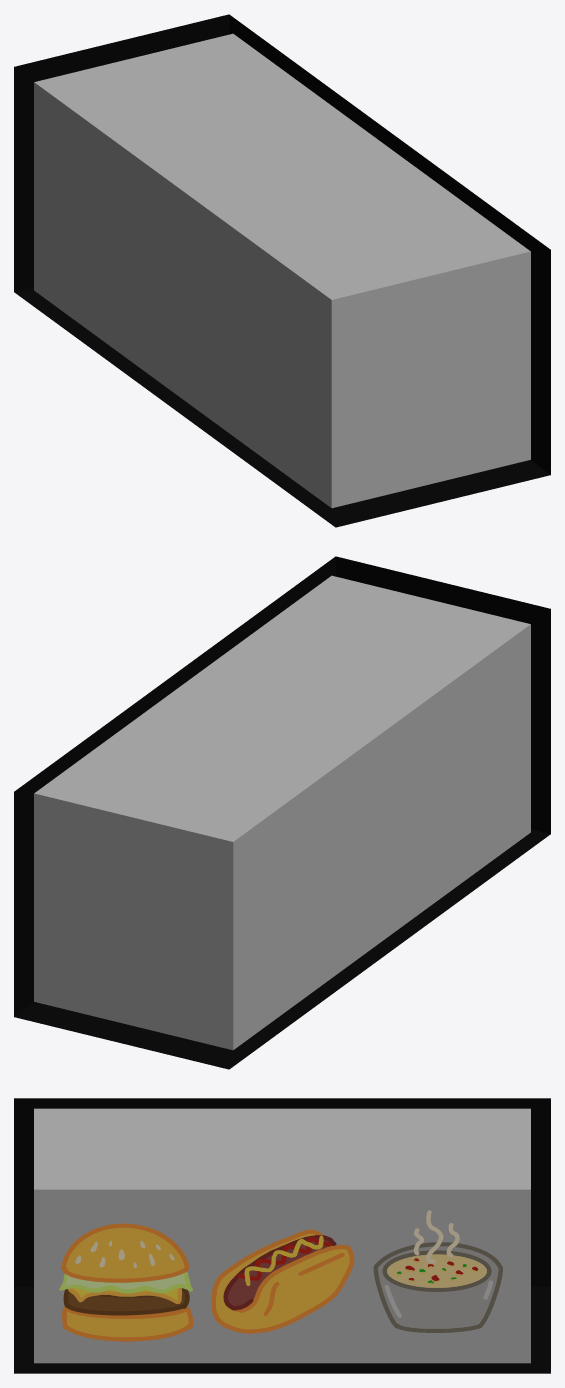
The model's file is tippys_kitchen_desk_1.fbx.
3 renders of one model, top to bottom at view 1: azimuth 30°, elevation 25°; view 2: azimuth 150°, elevation 25°; view 3: azimuth 270°, elevation 25°, orthographic. The views are drawn at different scales.
Parts seen in each view (by area): view 1: kitchen_silver_desk; view 2: kitchen_silver_desk; view 3: kitchen_silver_desk.
Boxes of the visible parts, x1,y1,x2,y2 form: kitchen_silver_desk: (14,14,550,527); kitchen_silver_desk: (14,556,550,1069); kitchen_silver_desk: (14,1098,550,1373).
Size of the model in its own units: 203 by 200 by 518.
